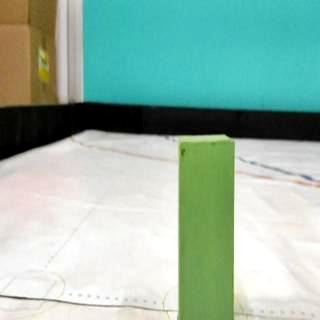greenbox: (176, 133, 237, 320)
